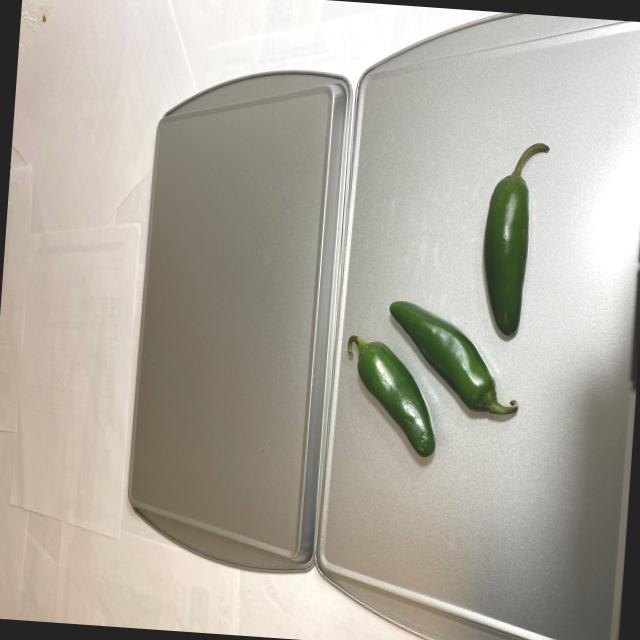chilli: (334, 122, 562, 469)
